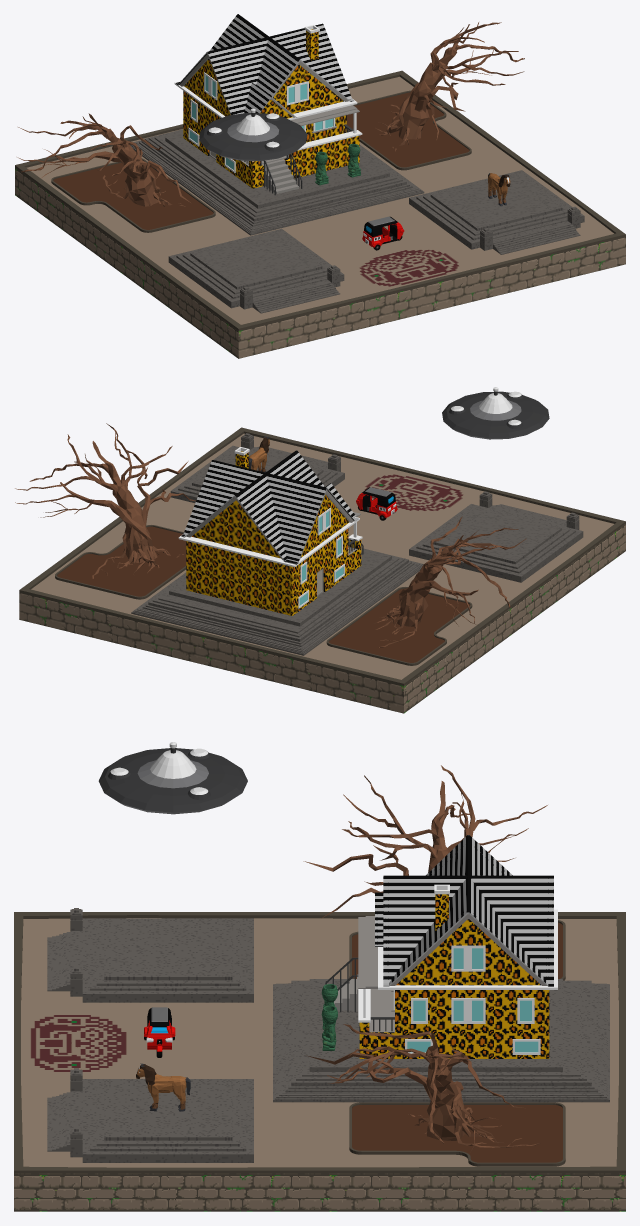
The picture shows the model from 3 angles, top to bottom: view 1: azimuth 30°, elevation 25°; view 2: azimuth 150°, elevation 25°; view 3: azimuth 270°, elevation 25°; orthographic projection. The views are drawn at different scales.
Visible parts, largest first — view 1: Cube.011, Cube.637, OBJRANDOM_UFO, VEHICLES_TUC_TUC, ANIMAL_CABALLO; view 2: Cube.011, Cube.637, OBJRANDOM_UFO, VEHICLES_TUC_TUC, ANIMAL_CABALLO; view 3: Cube.011, Cube.637, OBJRANDOM_UFO, ANIMAL_CABALLO, VEHICLES_TUC_TUC.
Boxes of the visible parts, box(x1,y1,x2,y2) form: Cube.011: box(15, 22, 625, 358); Cube.637: box(174, 14, 362, 195); OBJRANDOM_UFO: box(199, 108, 307, 161); VEHICLES_TUC_TUC: box(362, 216, 404, 250); ANIMAL_CABALLO: box(488, 173, 510, 206); Cube.011: box(15, 423, 625, 713); Cube.637: box(178, 447, 363, 615); OBJRANDOM_UFO: box(442, 387, 549, 439); VEHICLES_TUC_TUC: box(356, 487, 397, 520); ANIMAL_CABALLO: box(248, 436, 269, 472); Cube.011: box(14, 765, 625, 1211); Cube.637: box(325, 835, 557, 1058); OBJRANDOM_UFO: box(98, 742, 247, 814); ANIMAL_CABALLO: box(136, 1063, 190, 1111); VEHICLES_TUC_TUC: box(144, 1007, 175, 1057).
Size of the model in its own units: 5099 by 2100 by 4000.
36 materials, 6 textured.
